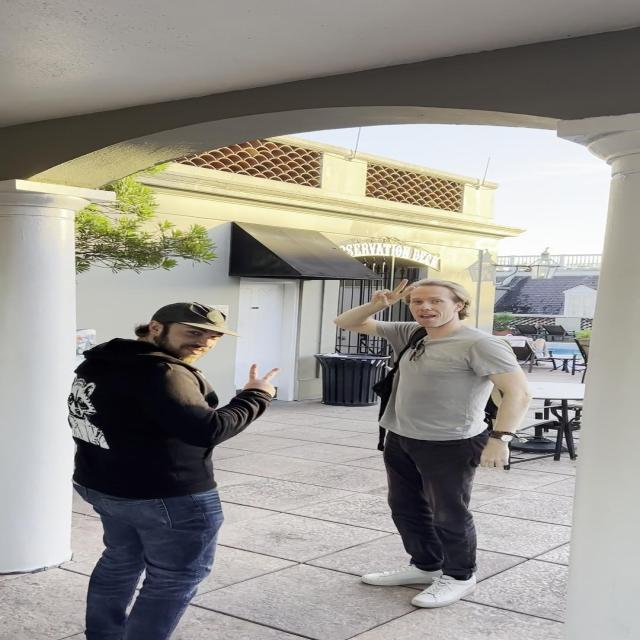NO-Mask: (408, 285, 459, 329), (166, 321, 216, 360)
